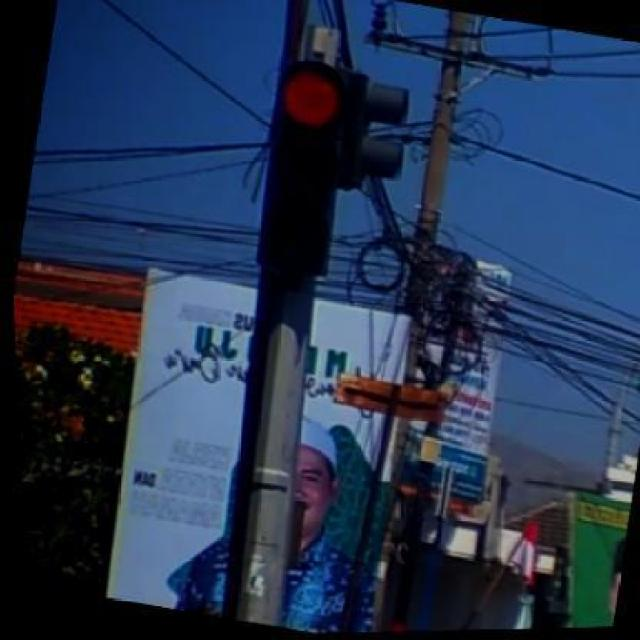Traffic Light -Red-: (251, 54, 352, 288)
